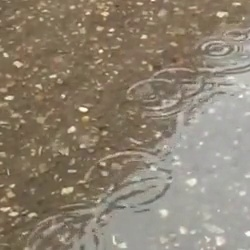drop: (85, 151, 169, 208), (23, 212, 101, 250), (127, 77, 184, 115), (152, 68, 203, 100), (199, 38, 237, 58), (72, 132, 94, 152), (223, 29, 249, 44)
